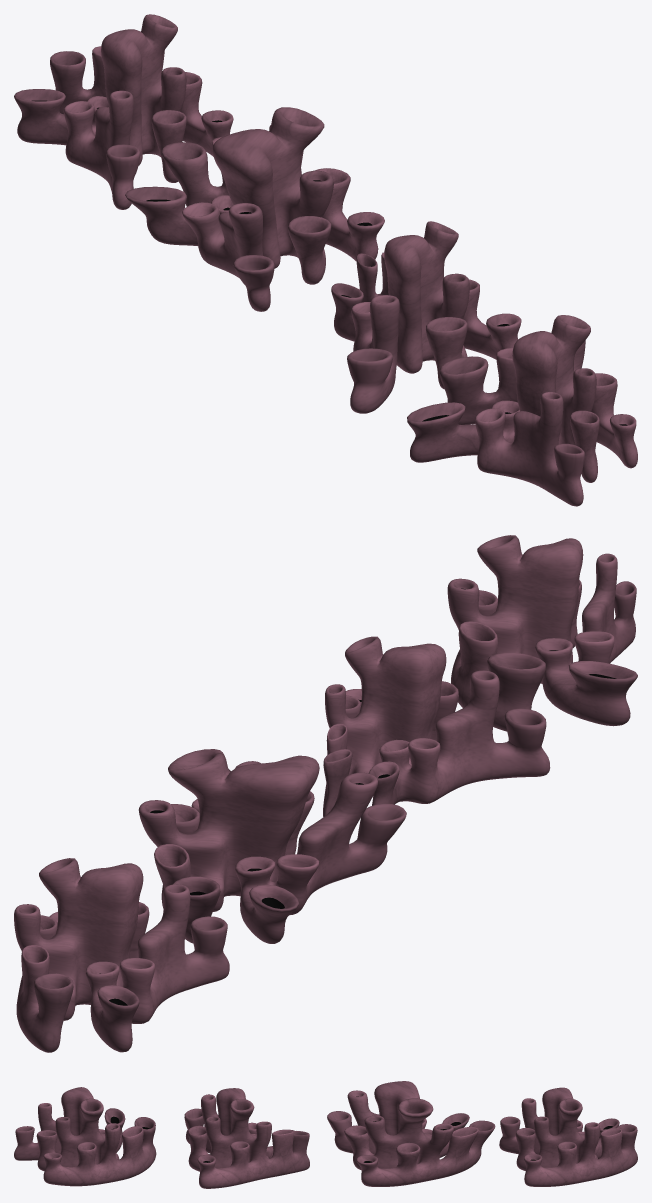
Rendered from EndoSmooth.fbx.
3 views of the same model, one above another, from view 1: azimuth 30°, elevation 25°; view 2: azimuth 150°, elevation 25°; view 3: azimuth 270°, elevation 25° (orthographic). The views are drawn at different scales.
Visible parts, largest first — view 1: Endo2, Endo4, Endo1, Endo3; view 2: Endo2, Endo1, Endo4, Endo3; view 3: Endo2, Endo4, Endo1, Endo3.
Boxes of the visible parts, x1,y1,x2,y2 form: Endo2: [125, 107, 384, 311]; Endo4: [407, 315, 637, 506]; Endo1: [14, 14, 233, 209]; Endo3: [331, 221, 521, 413]; Endo2: [138, 749, 406, 943]; Endo1: [14, 858, 229, 1052]; Endo4: [447, 535, 637, 731]; Endo3: [323, 636, 550, 816]; Endo2: [327, 1081, 495, 1186]; Endo4: [14, 1087, 156, 1186]; Endo1: [499, 1087, 637, 1186]; Endo3: [184, 1088, 309, 1188].
Bounding box in the file's own units: 2260 × 1444 × 10822.
